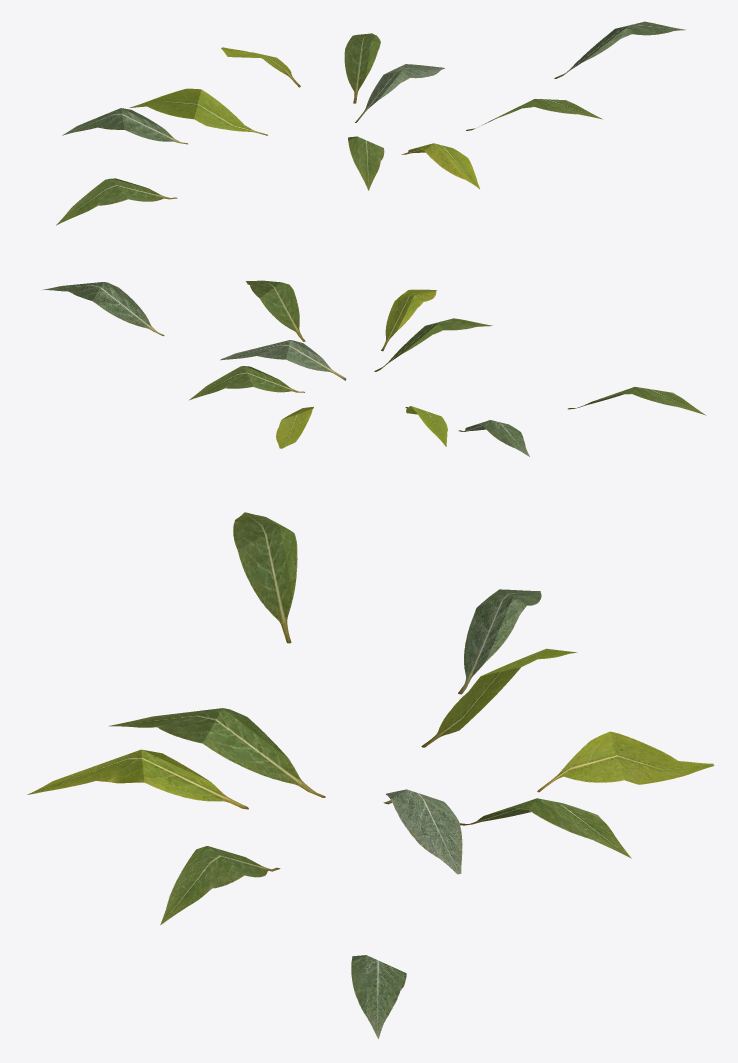
The model's file is groundcover_01.glb.
3 views of the same model, one above another, from view 1: azimuth 30°, elevation 25°; view 2: azimuth 150°, elevation 25°; view 3: azimuth 270°, elevation 25° (orthographic). The views are drawn at different scales.
Parts seen in each view (by area): view 1: groundcover_01; view 2: groundcover_01; view 3: groundcover_01.
Boxes of the visible parts, bbox=[...] form: groundcover_01: bbox=[56, 21, 685, 225]; groundcover_01: bbox=[42, 280, 706, 456]; groundcover_01: bbox=[27, 512, 714, 1038].
Bounding box in the file's own units: 1.59 × 0.0853 × 0.8774.
1 material, 1 textured.
